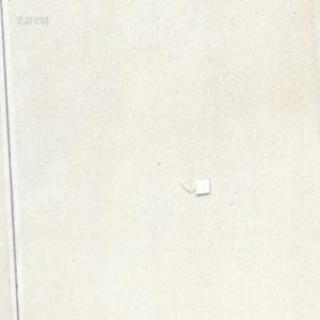LuggageTagtrack_idkeyframe: (178, 177, 210, 194)
